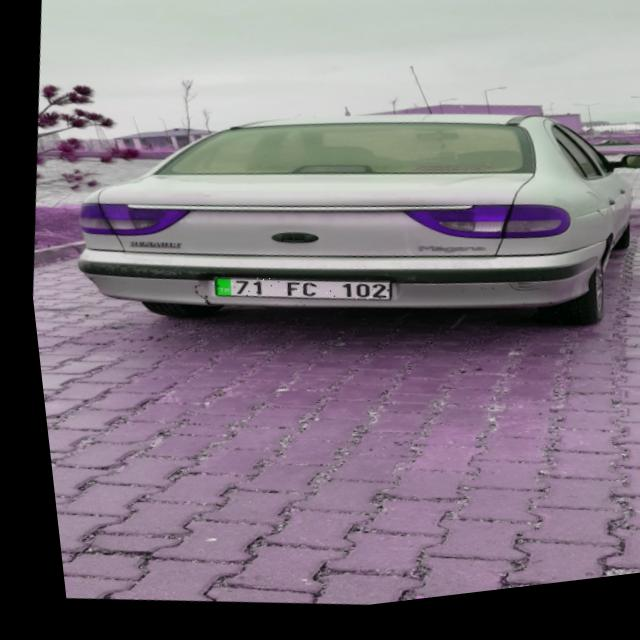license_plate: (203, 265, 386, 325)
